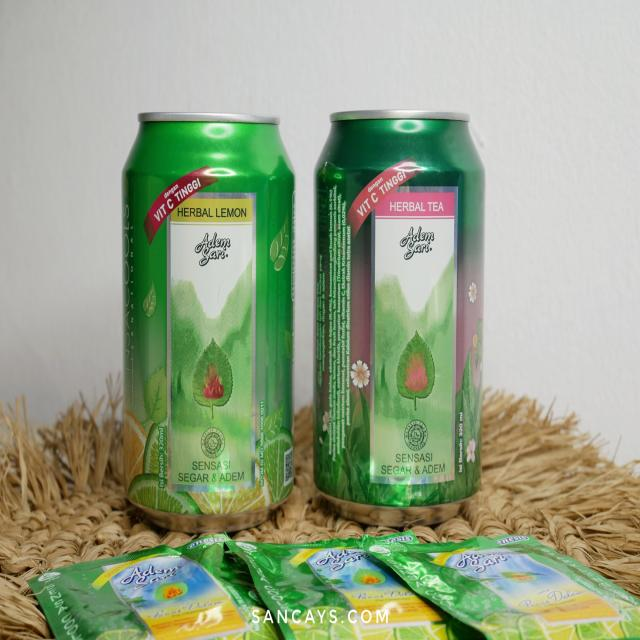ademsarikaleng: (120, 110, 296, 534), (313, 108, 487, 528)
